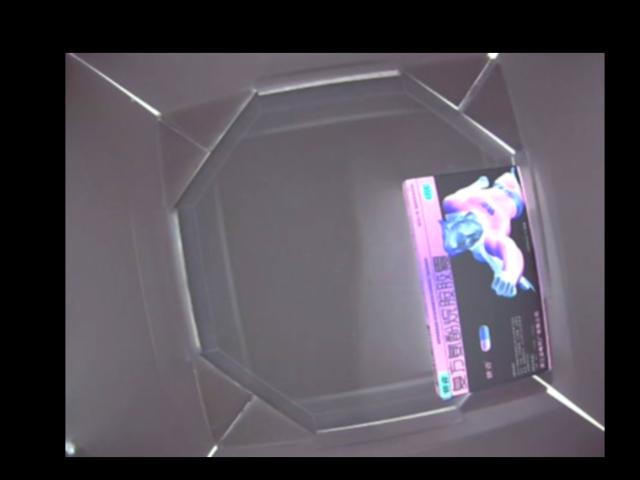Medicine: (403, 166, 548, 399)
